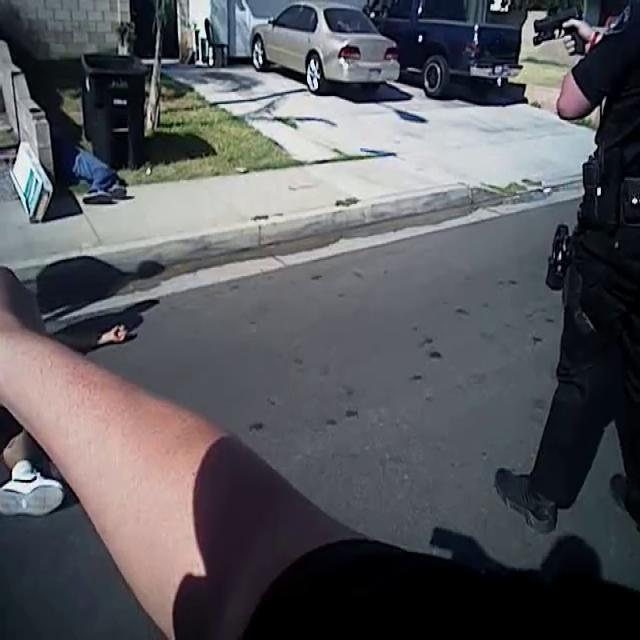gun: (517, 0, 615, 68)
